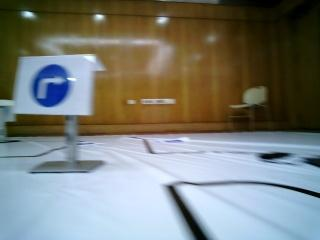right: (22, 62, 91, 111)
